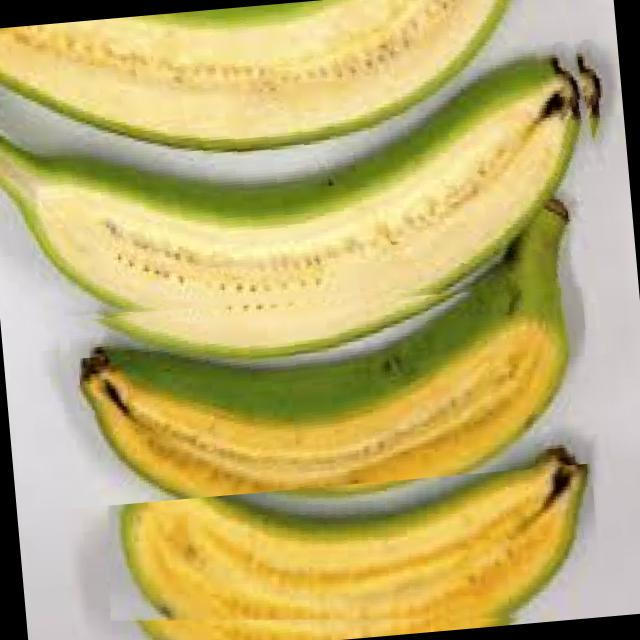Organic: (0, 0, 621, 337), (52, 264, 596, 508), (99, 459, 603, 640)
